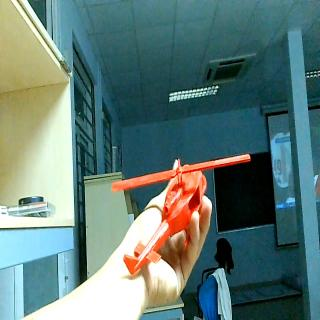Helicopter: (111, 153, 252, 277)
